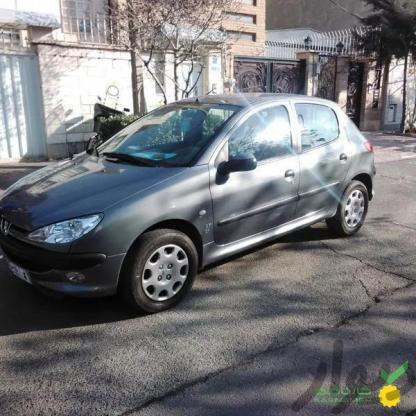Car: (0, 92, 377, 311)
